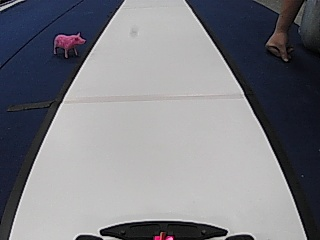pig: (51, 30, 86, 58)
